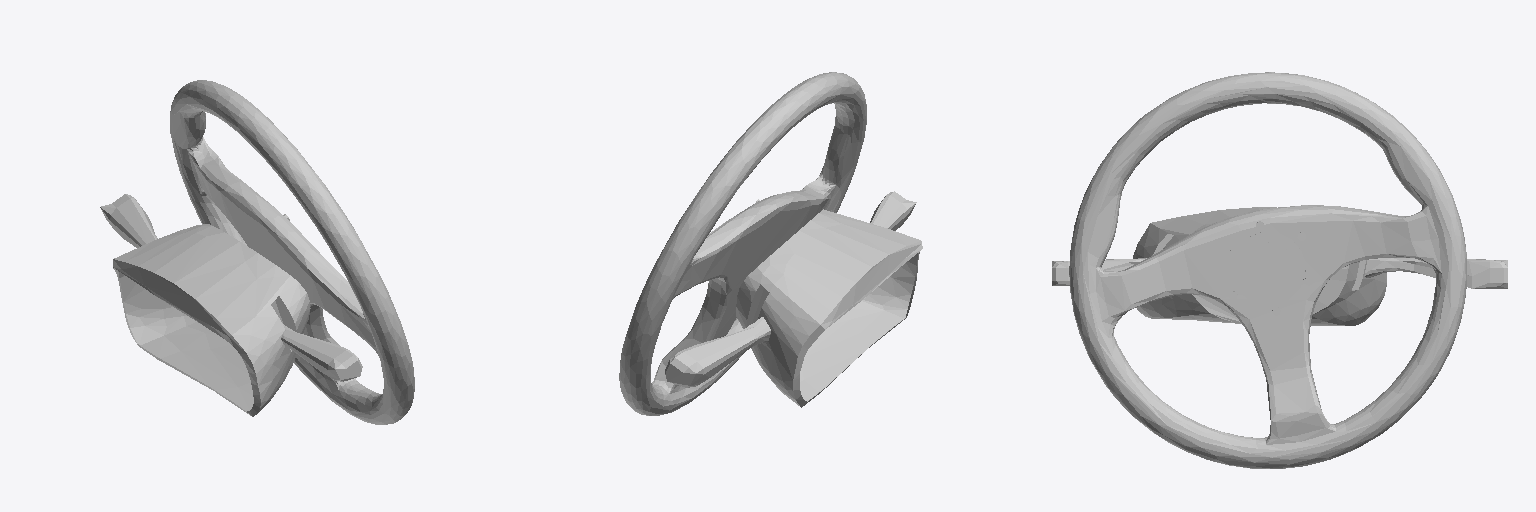
Rendered from (Obsolete)Steering wheel.obj.
The picture shows the model from 3 angles: view 1: azimuth 30°, elevation 25°; view 2: azimuth 150°, elevation 25°; view 3: azimuth 270°, elevation 25°; orthographic projection.
Bounding box in the file's own units: 221 × 356 × 434.